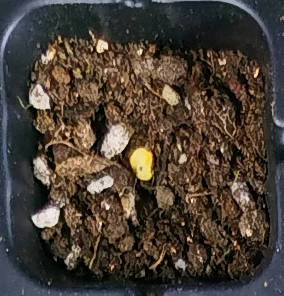pepper seed: (49, 55, 207, 238)
